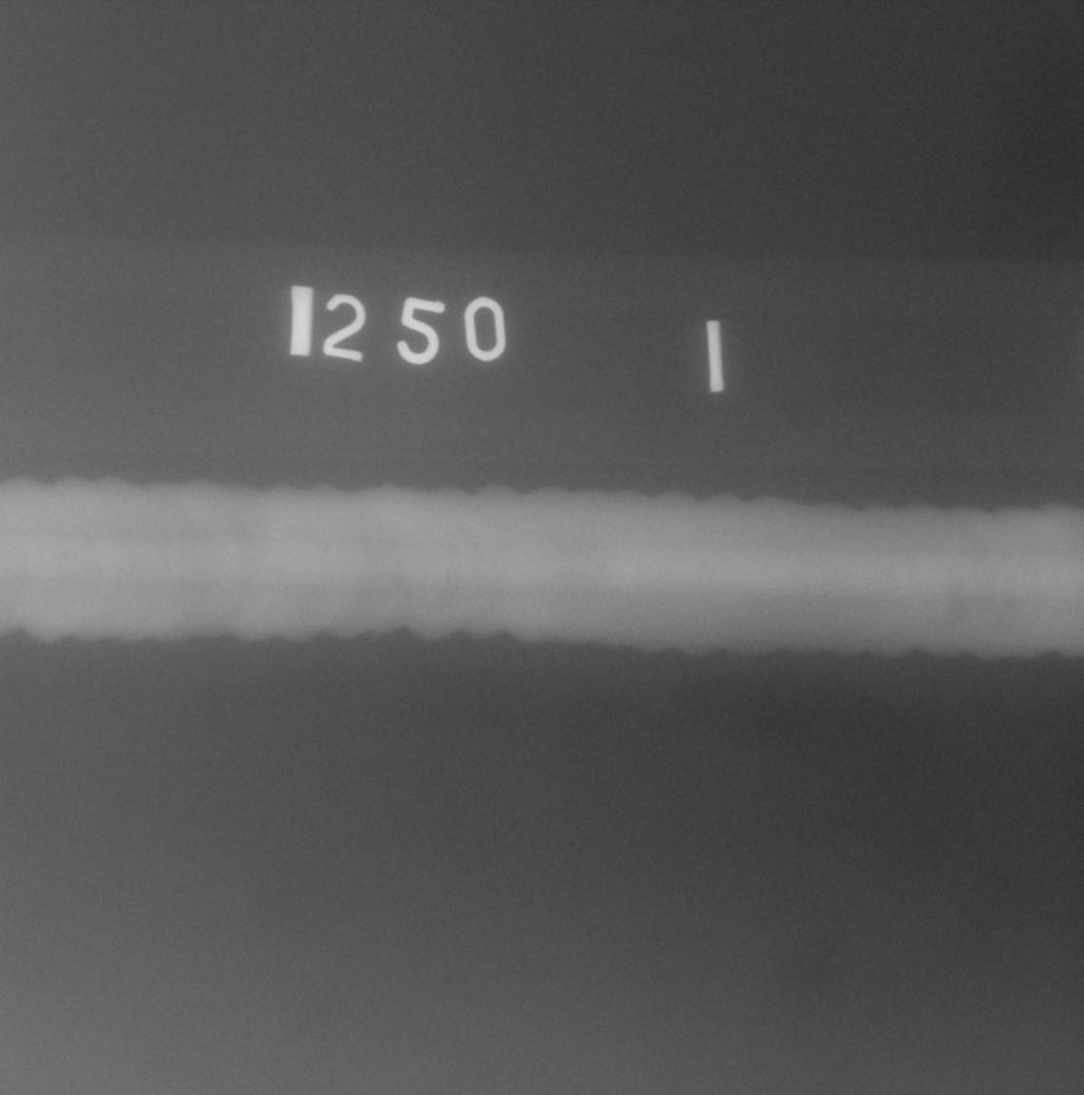Pore/Porosity: (61, 553, 67, 558)
